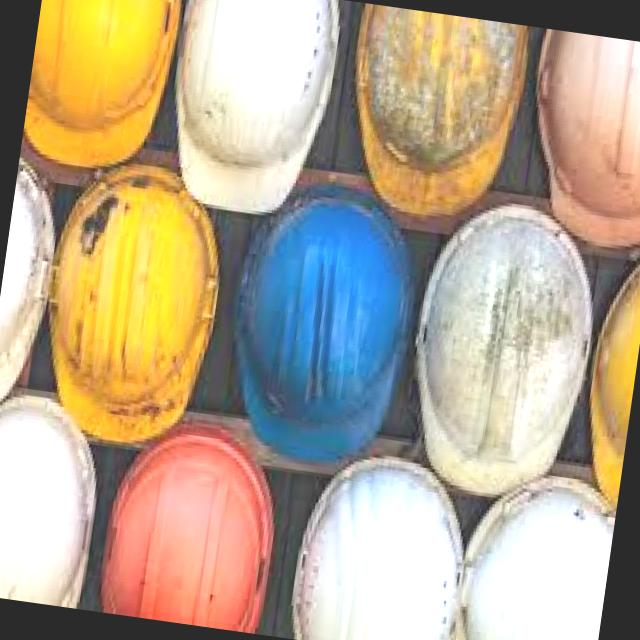helmet: (398, 190, 610, 508), (220, 174, 426, 472), (32, 156, 236, 452), (331, 2, 535, 230), (94, 412, 288, 632), (155, 0, 344, 223), (285, 447, 476, 640), (453, 463, 620, 640), (509, 27, 640, 252), (21, 0, 185, 177), (0, 383, 108, 609), (573, 241, 640, 513), (0, 158, 69, 420)
